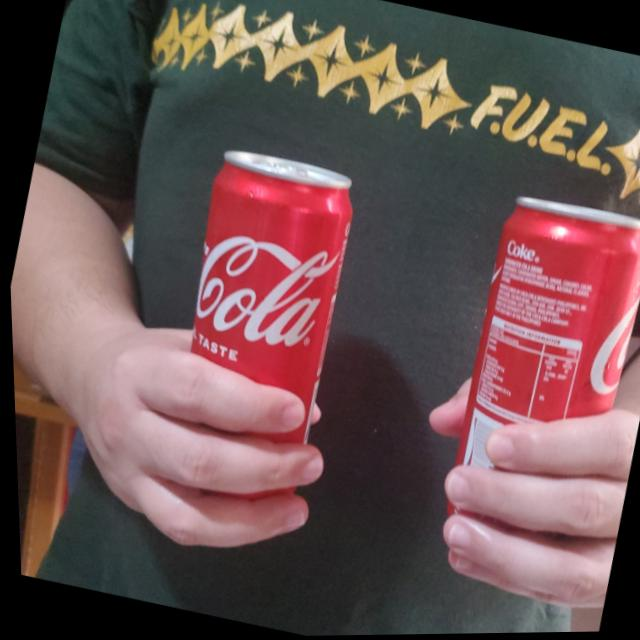coke: (155, 142, 368, 462), (443, 189, 640, 509)
